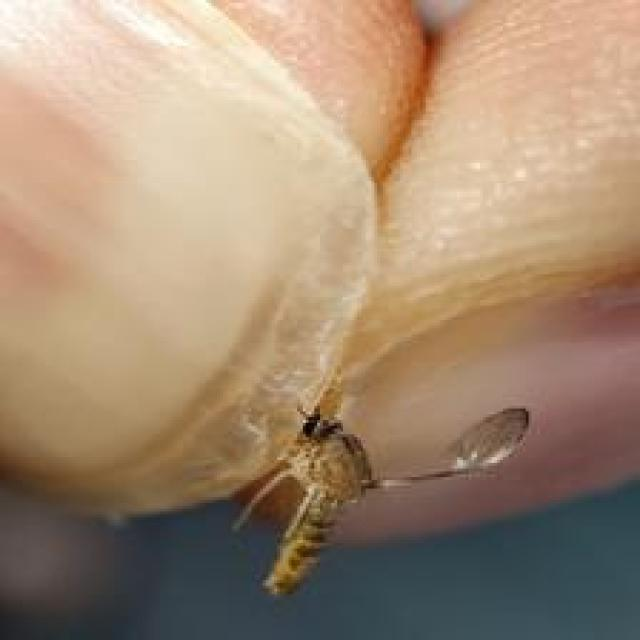Culex: (227, 370, 530, 599)
